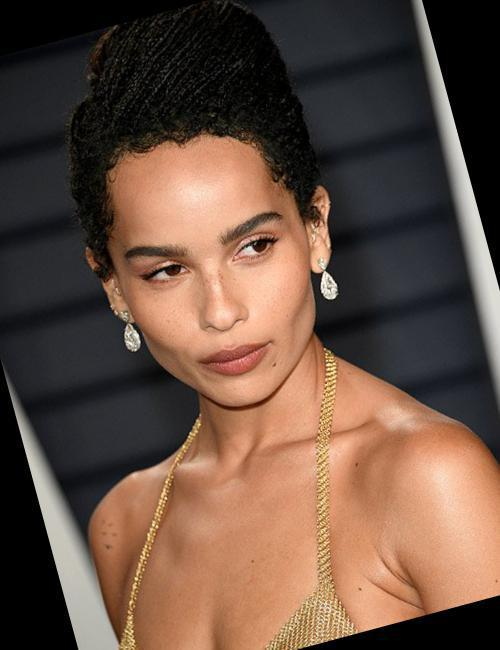Sober: (112, 152, 313, 400)
